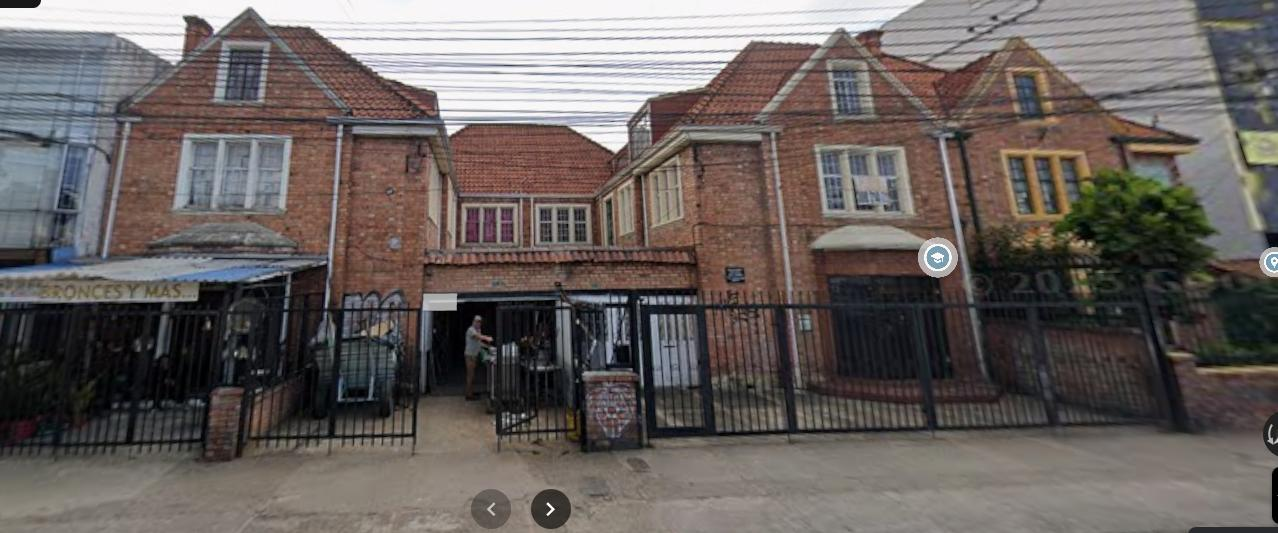casa: (417, 29, 1195, 450), (0, 9, 607, 458)
